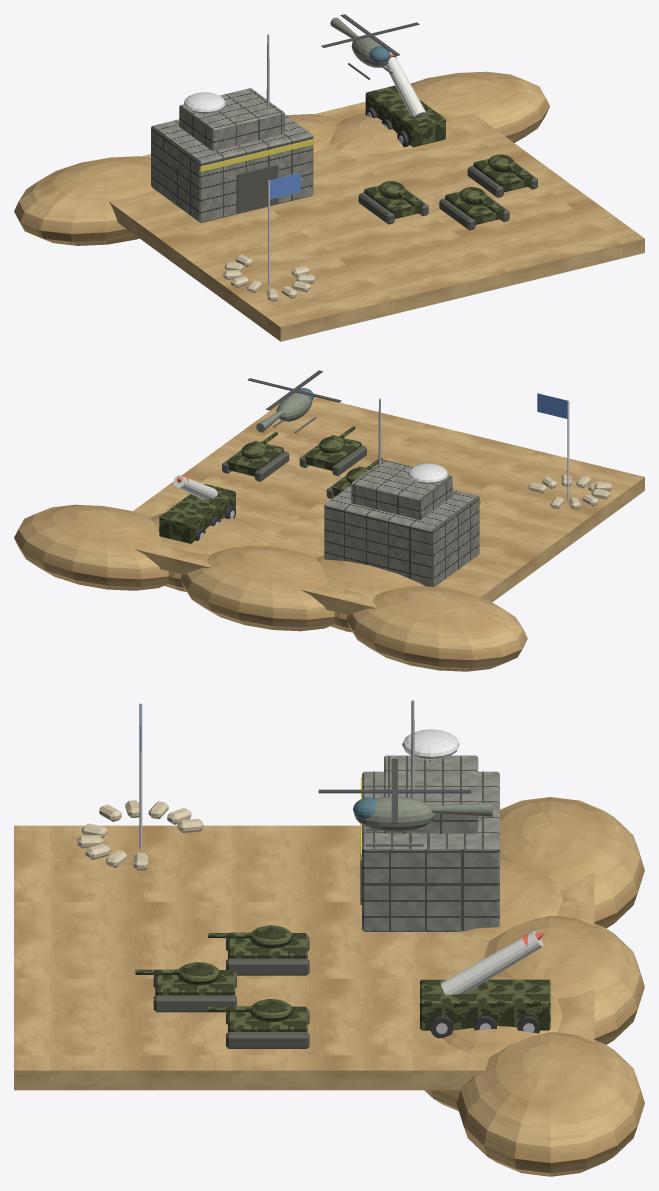
Rendered from ch5_game_9.glb.
3 renders of one model, top to bottom at view 1: azimuth 30°, elevation 25°; view 2: azimuth 150°, elevation 25°; view 3: azimuth 270°, elevation 25°, orthographic. The views are drawn at different scales.
Visible parts, largest first — view 1: sand, hq_base, dune, dune.004, hq_top, truck, dune.003, hq_door, dune.002, missile, hull.002, hull.001 (+8 smaller); view 2: sand, dune, hq_base, dune.004, dune.002, hq_top, dune.001, dune.003, truck, hull.001, hull.002, heli_body (+5 smaller); view 3: sand, dune.004, hq_base, dune, dune.002, truck, hq_top, dune.001, dune.003, missile, heli_body, hull.001 (+11 smaller).
Part boxes in pixels (x1,y1,x2,y2): sand: [109, 101, 644, 341]; hq_base: [151, 115, 313, 222]; dune: [14, 156, 154, 245]; dune.004: [411, 71, 549, 142]; hq_top: [179, 88, 284, 150]; truck: [365, 85, 445, 147]; dune.003: [329, 112, 454, 153]; hq_door: [236, 164, 278, 213]; dune.002: [286, 114, 340, 152]; missile: [385, 52, 426, 117]; hull.002: [473, 159, 532, 192]; hull.001: [445, 191, 504, 224]; sand: [132, 396, 644, 615]; dune: [346, 586, 527, 671]; hq_base: [324, 485, 479, 586]; dune.004: [14, 504, 168, 590]; dune.002: [180, 545, 334, 631]; hq_top: [351, 459, 452, 519]; dune.001: [316, 555, 425, 632]; dune.003: [150, 513, 270, 591]; truck: [159, 484, 235, 543]; hull.001: [305, 435, 361, 470]; hull.002: [227, 441, 283, 476]; heli_body: [276, 392, 312, 421]; sand: [14, 825, 594, 1090]; dune.004: [456, 1032, 644, 1176]; hq_base: [362, 771, 499, 931]; dune: [500, 797, 644, 928]; dune.002: [484, 916, 644, 1044]; truck: [420, 979, 550, 1030]; hq_top: [384, 755, 478, 833]; dune.001: [457, 858, 562, 940]; dune.003: [424, 974, 562, 1111]; missile: [441, 931, 543, 994]; heli_body: [354, 796, 435, 832]; hull.001: [155, 970, 235, 995].
Size of the model in its own units: 23 by 8.7 by 17.4.
Materials: 19 (3 with a texture image).
